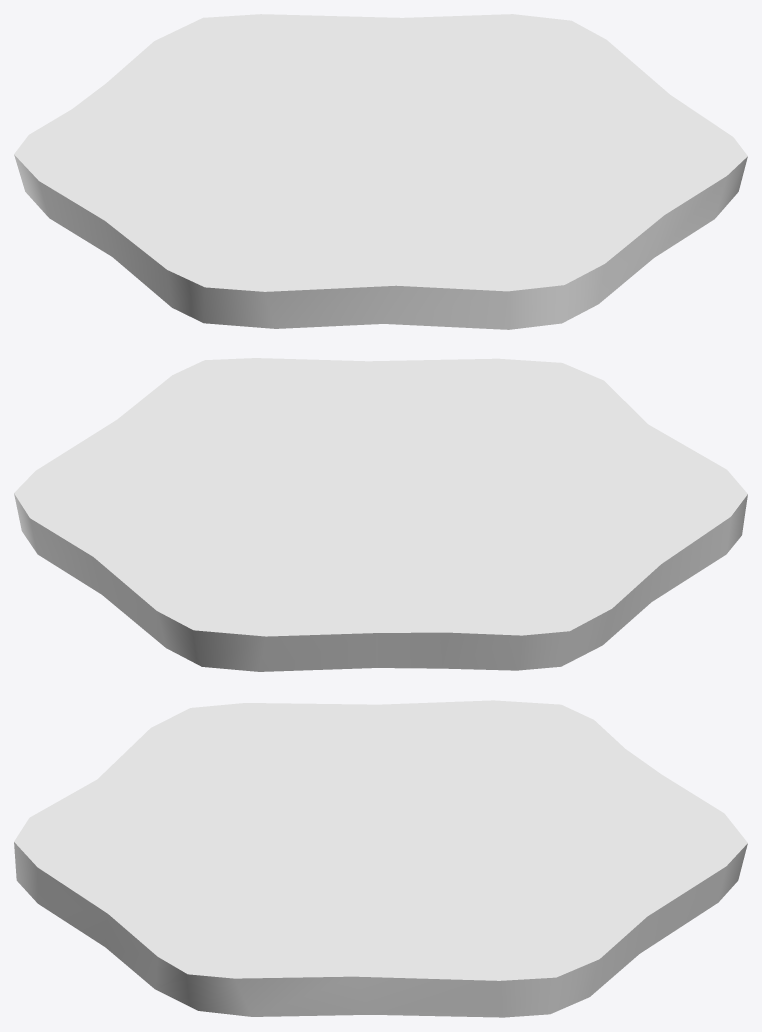
File: Wetlands_RoadBase.fbx
3 renders of one model, top to bottom at view 1: azimuth 30°, elevation 25°; view 2: azimuth 150°, elevation 25°; view 3: azimuth 270°, elevation 25°, orthographic.
Visible parts, largest first — view 1: Wetlands_RoadBase; view 2: Wetlands_RoadBase; view 3: Wetlands_RoadBase.
Boxes of the visible parts, <box> form: Wetlands_RoadBase: <box>14,14,747,329</box>; Wetlands_RoadBase: <box>14,358,747,671</box>; Wetlands_RoadBase: <box>14,700,747,1017</box>.
Bounding box in the file's own units: 0.9239 × 0.0619 × 1.02.
